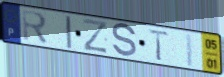I: (185, 32, 196, 69), (64, 15, 74, 51)
R: (20, 8, 49, 47)
S: (110, 23, 138, 60)
T: (147, 28, 171, 62)
Z: (81, 17, 110, 55)
